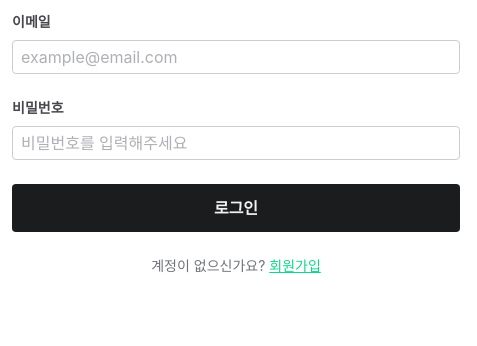
it: SigninForm - Business Logic › Form Validation › shows validation error when email is empty
Click the button "로그인".
click(236, 208)  # box [12,184,460,232]
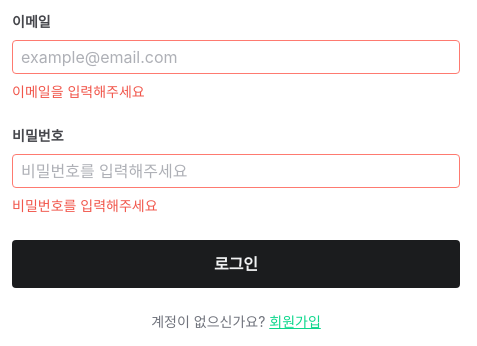
Now the text "이메일을 입력해주세요" is shown, box [12,83,145,100]
